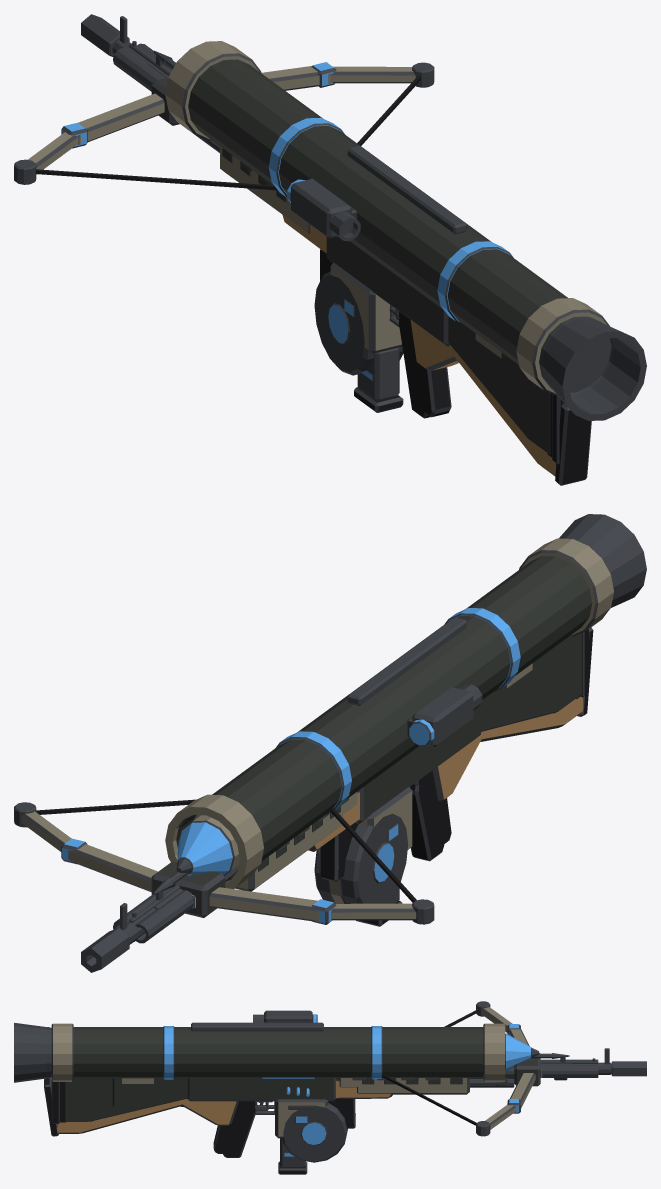
Rendered from armes_nouvelles.glb.
The picture shows the model from 3 angles, top to bottom: view 1: azimuth 30°, elevation 25°; view 2: azimuth 150°, elevation 25°; view 3: azimuth 270°, elevation 25°; orthographic projection. The views are drawn at different scales.
Visible parts, largest first — view 1: arme_roquettes, arme_mitrailleuse, arme_arbalete, arme_pompeauto, arme_double, arme_lourd; view 2: arme_roquettes, arme_mitrailleuse, arme_arbalete, arme_pompeauto, arme_double; view 3: arme_roquettes, arme_mitrailleuse, arme_pompeauto, arme_double, arme_arbalete, arme_lourd.
Part boxes in pixels (x1=…): arme_roquettes: x1=165, y1=41, x2=646, y2=420; arme_mitrailleuse: x1=81, y1=14, x2=564, y2=464; arme_arbalete: x1=14, y1=50, x2=555, y2=464; arme_pompeauto: x1=147, y1=55, x2=552, y2=457; arme_double: x1=113, y1=41, x2=591, y2=485; arme_lourd: x1=354, y1=309, x2=451, y2=417; arme_roquettes: x1=165, y1=514, x2=646, y2=888; arme_mitrailleuse: x1=81, y1=629, x2=588, y2=972; arme_arbalete: x1=14, y1=780, x2=434, y2=924; arme_pompeauto: x1=147, y1=632, x2=582, y2=908; arme_double: x1=113, y1=627, x2=593, y2=943; arme_roquettes: x1=14, y1=1010, x2=538, y2=1128; arme_mitrailleuse: x1=51, y1=1048, x2=646, y2=1157; arme_pompeauto: x1=59, y1=1057, x2=571, y2=1162; arme_double: x1=44, y1=1058, x2=598, y2=1136; arme_arbalete: x1=254, y1=1001, x2=569, y2=1136; arme_lourd: x1=112, y1=1077, x2=335, y2=1174.
Bounding box in the file's own units: 0.6704 × 0.366 × 1.43.
